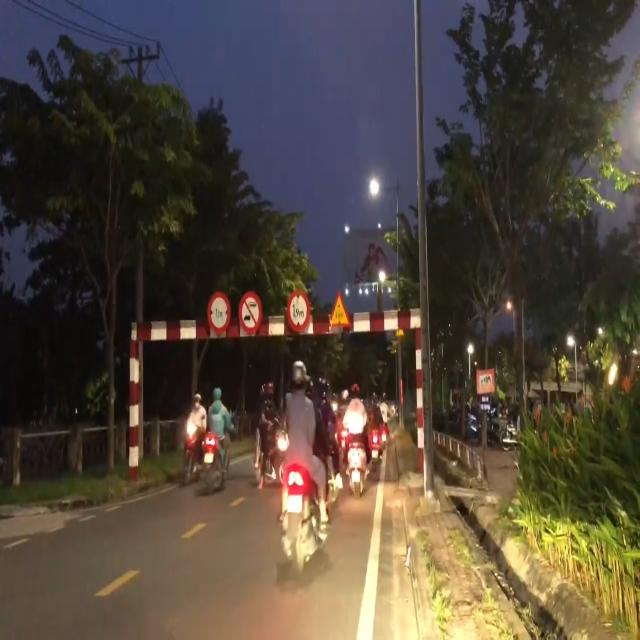Bien bao cam xe oto khach va xe oto tai: (238, 290, 262, 340)
Bien bao chieu cao tinh khong thuc te: (328, 288, 351, 331)
Bien bao han che chieu cao: (287, 288, 312, 337)
